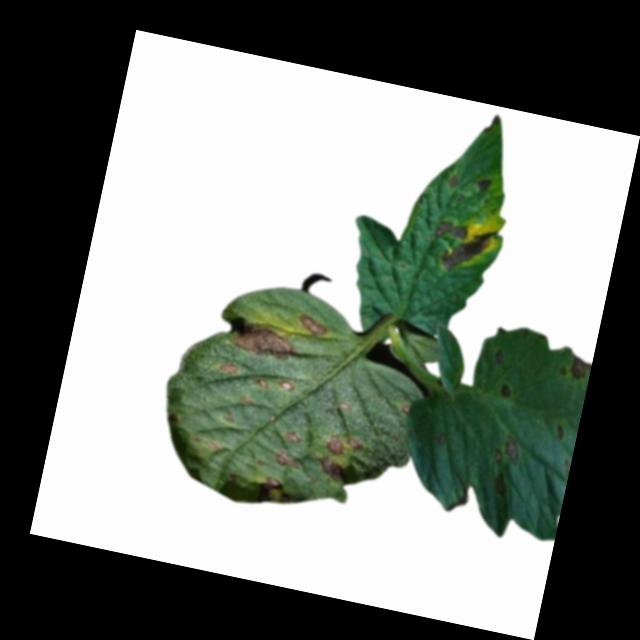Early_blight: (226, 318, 300, 362), (439, 223, 496, 278), (254, 473, 299, 508), (324, 430, 368, 462), (431, 214, 471, 242), (491, 433, 523, 468), (312, 454, 348, 484), (293, 311, 331, 338), (270, 447, 301, 471), (489, 466, 511, 498), (568, 353, 593, 381), (218, 358, 242, 379), (274, 374, 297, 394), (282, 426, 303, 446), (443, 171, 462, 190), (252, 373, 271, 392), (496, 378, 513, 399), (474, 175, 492, 194), (492, 345, 505, 364)
